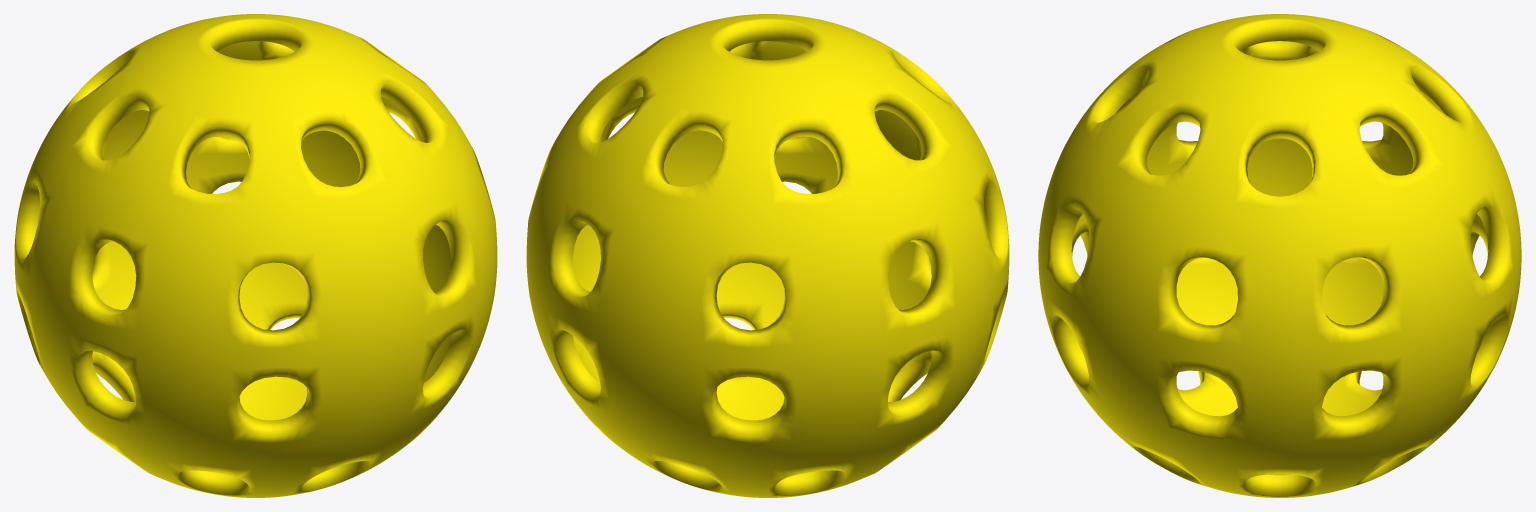
File: Pickle1to1.glb
3 views of the same model, side by side, from view 1: azimuth 30°, elevation 25°; view 2: azimuth 150°, elevation 25°; view 3: azimuth 270°, elevation 25° (orthographic).
Visible parts, largest first — view 1: pickleV2; view 2: pickleV2; view 3: pickleV2.
Part boxes in pixels (left/top/right/bottom): pickleV2: left=14, top=14, right=497, bottom=497; pickleV2: left=526, top=14, right=1009, bottom=497; pickleV2: left=1038, top=14, right=1521, bottom=497.
Size of the model in its own units: 0.1887 by 0.1857 by 0.1887.
